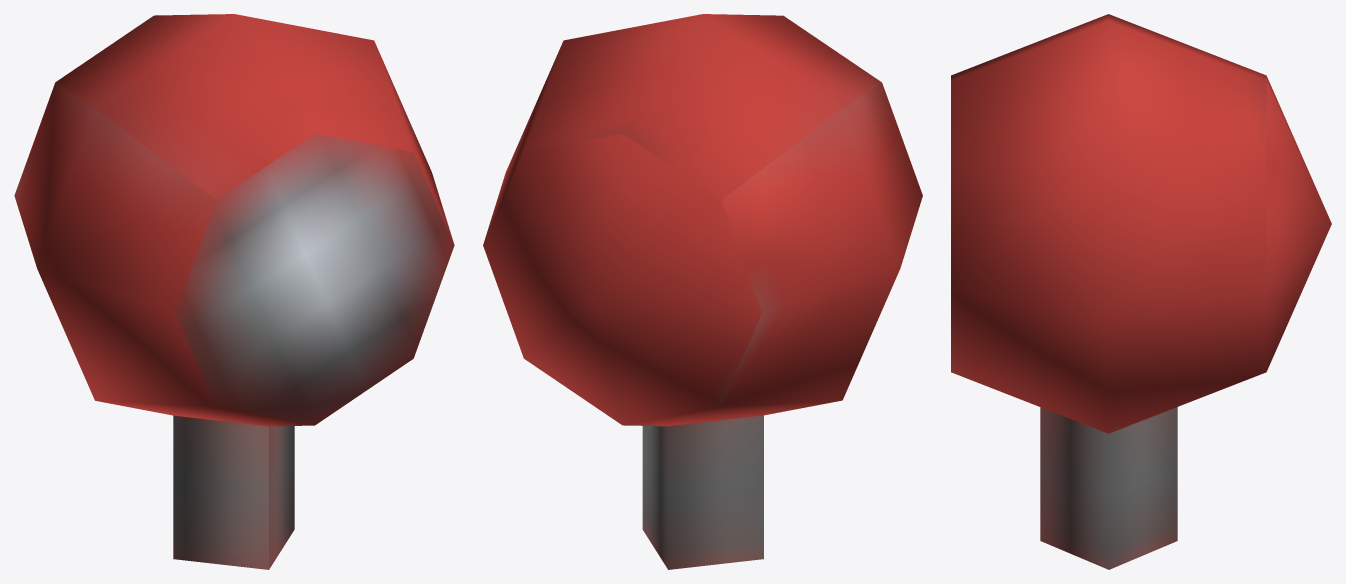
The model's file is Lamp1.FBX.
3 views of the same model, side by side, from view 1: azimuth 30°, elevation 25°; view 2: azimuth 150°, elevation 25°; view 3: azimuth 270°, elevation 25° (orthographic). The views are drawn at different scales.
Parts seen in each view (by area): view 1: Lamp1; view 2: Lamp1; view 3: Lamp1.
Part boxes in pixels (x1=…): Lamp1: x1=14, y1=14, x2=454, y2=569; Lamp1: x1=483, y1=14, x2=922, y2=569; Lamp1: x1=951, y1=14, x2=1331, y2=569.
Size of the model in its own units: 9.64 by 12.38 by 8.22.
Materials: 1 (1 with a texture image).
